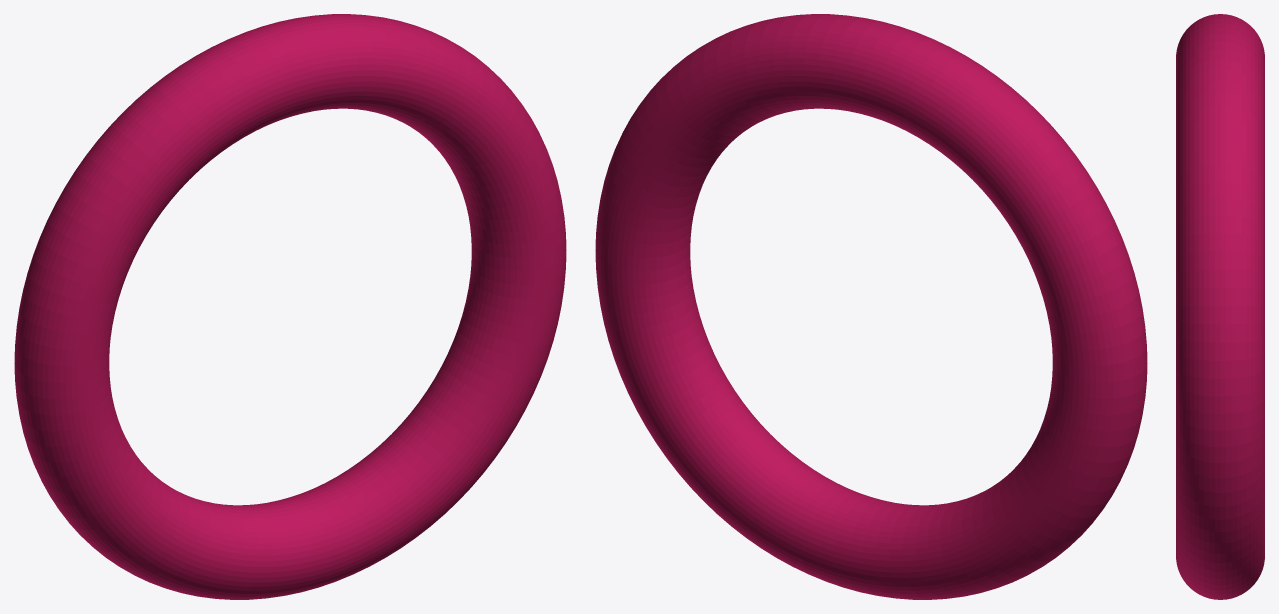
The picture shows the model from 3 angles, left to right: view 1: azimuth 30°, elevation 25°; view 2: azimuth 150°, elevation 25°; view 3: azimuth 270°, elevation 25°; orthographic projection. The views are drawn at different scales.
Parts seen in each view (by area): view 1: world; view 2: world; view 3: world.
Boxes of the visible parts, <box> form: world: <box>14,14,566,599</box>; world: <box>595,14,1147,599</box>; world: <box>1176,14,1264,599</box>.
Size of the model in its own units: 30.67 by 30.67 by 4.66.
